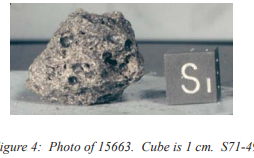Basalt: (26, 5, 142, 104)
